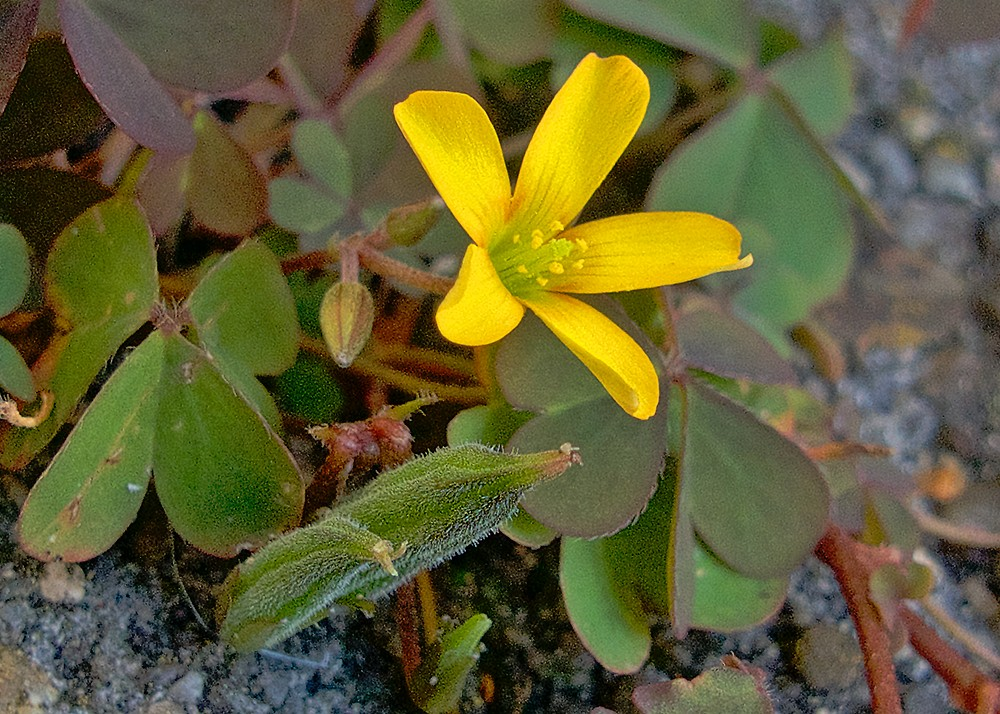oxalis: (631, 48, 895, 662), (24, 156, 292, 569), (499, 384, 855, 674)
